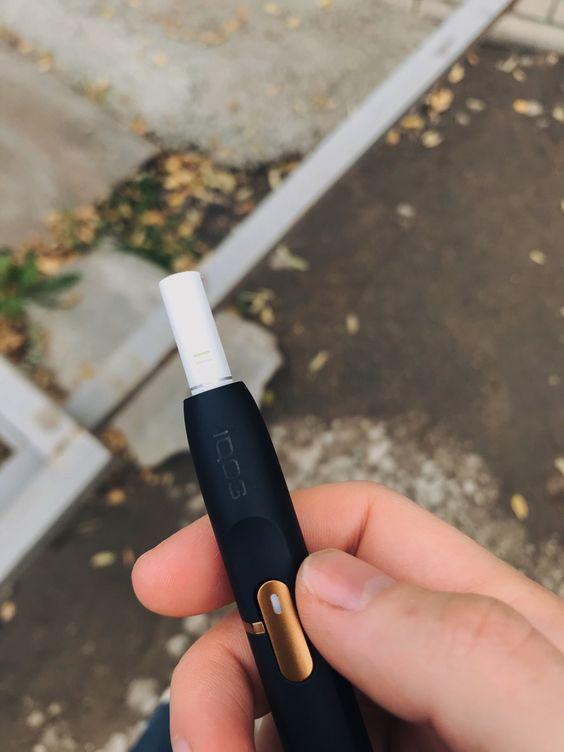iqos: (161, 272, 370, 751)
